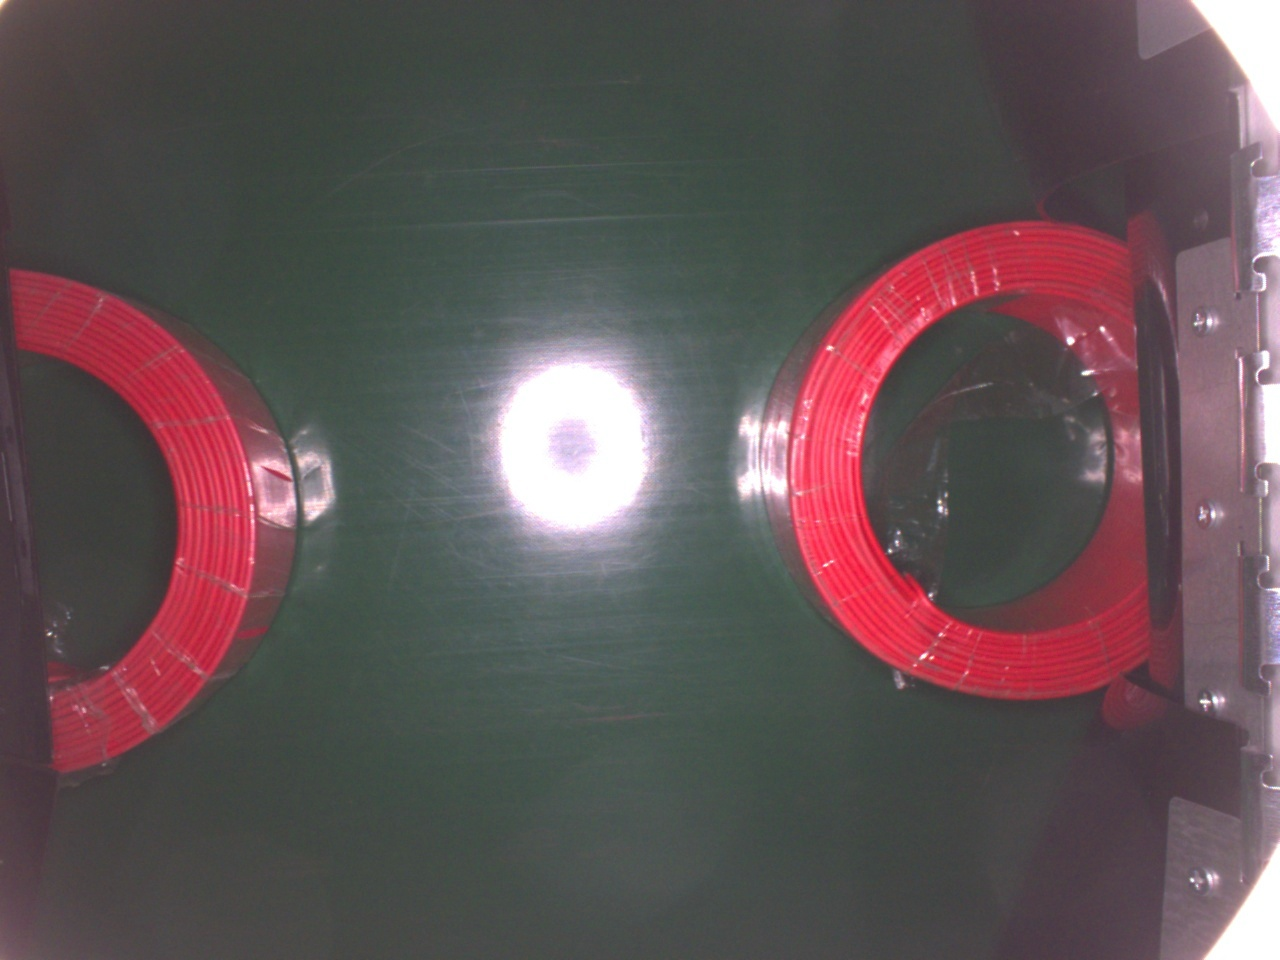red: (756, 216, 1149, 701), (9, 261, 298, 777)
